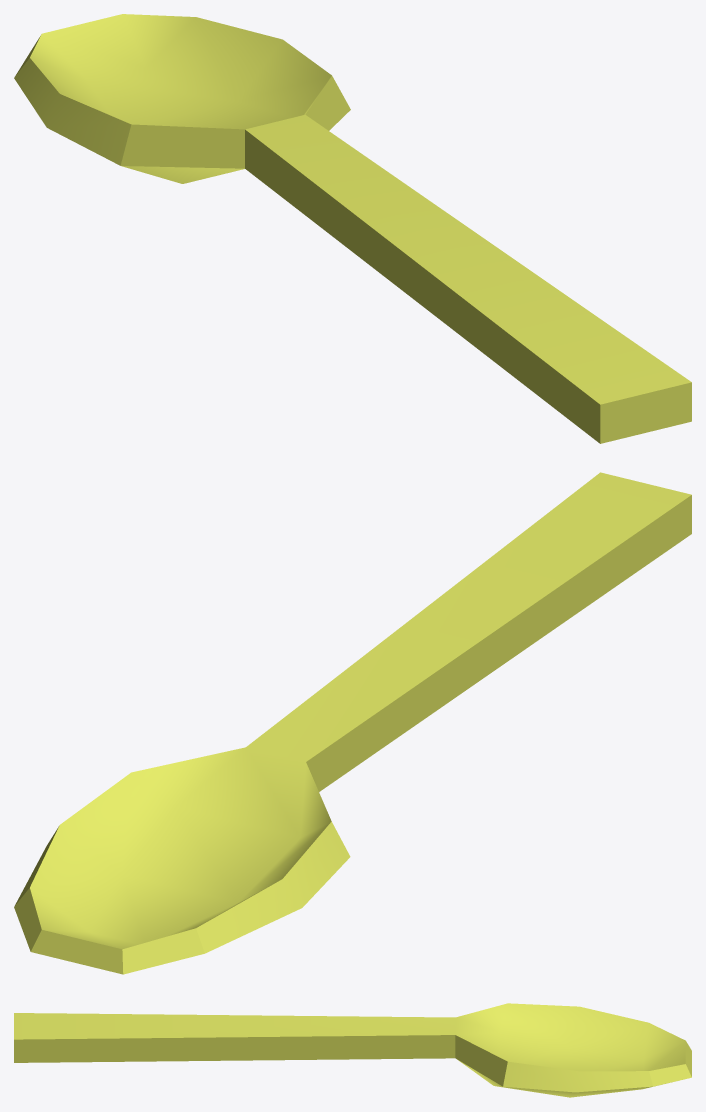
Rendered from li_utensilSpoon.fbx.
The picture shows the model from 3 angles, top to bottom: view 1: azimuth 30°, elevation 25°; view 2: azimuth 150°, elevation 25°; view 3: azimuth 270°, elevation 25°; orthographic projection. The views are drawn at different scales.
Parts seen in each view (by area): view 1: li_utensilSpoon; view 2: li_utensilSpoon; view 3: li_utensilSpoon.
Part boxes in pixels (box(x1,y1,x2,y2)): li_utensilSpoon: box(14, 14, 691, 443); li_utensilSpoon: box(14, 472, 691, 974); li_utensilSpoon: box(14, 1003, 691, 1097).
Size of the model in its own units: 5.89 by 2.01 by 22.7.
